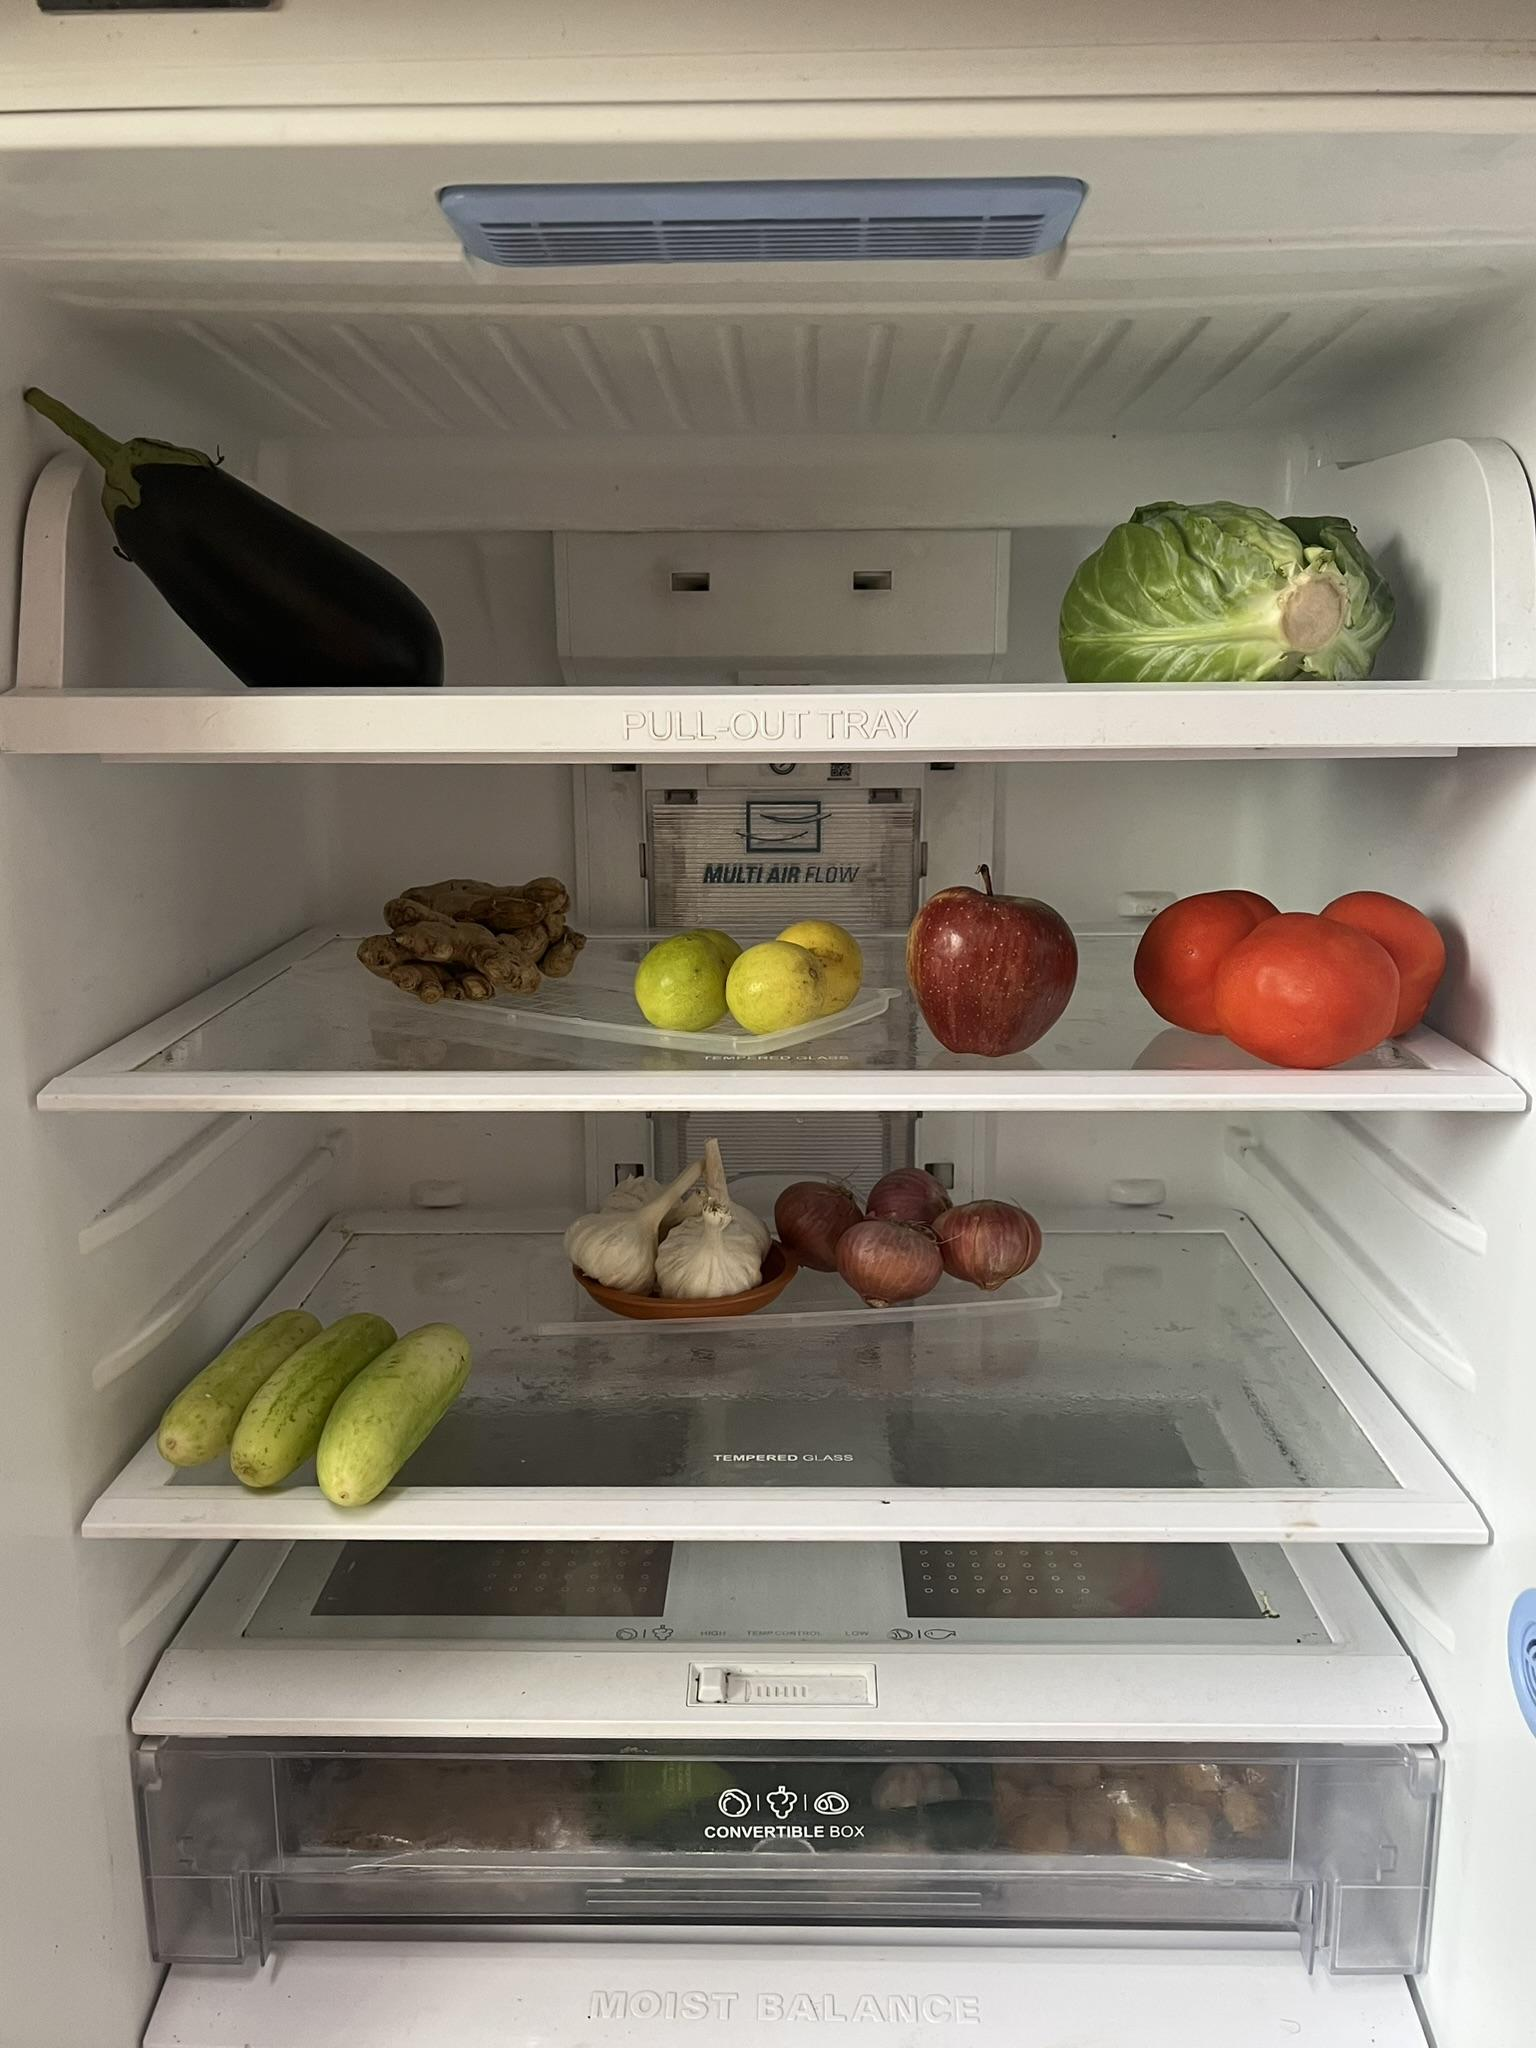apple: (904, 855, 1083, 1059)
bringal: (15, 373, 449, 689)
cabbage: (1052, 489, 1397, 681)
cucumber: (157, 1300, 482, 1509)
garlic: (561, 1135, 783, 1297)
ginger: (358, 866, 587, 1000)
lemon: (632, 916, 874, 1026)
onion: (778, 1166, 1049, 1308)
tomato: (1134, 876, 1460, 1064)
